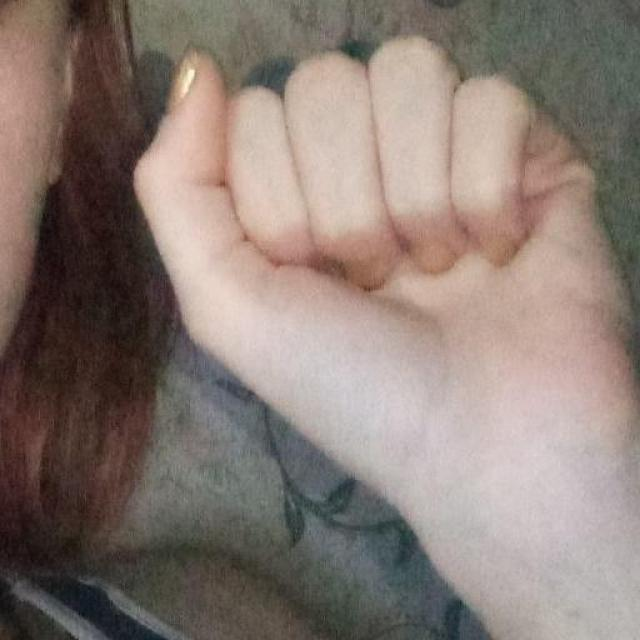hand: (130, 34, 639, 638)
